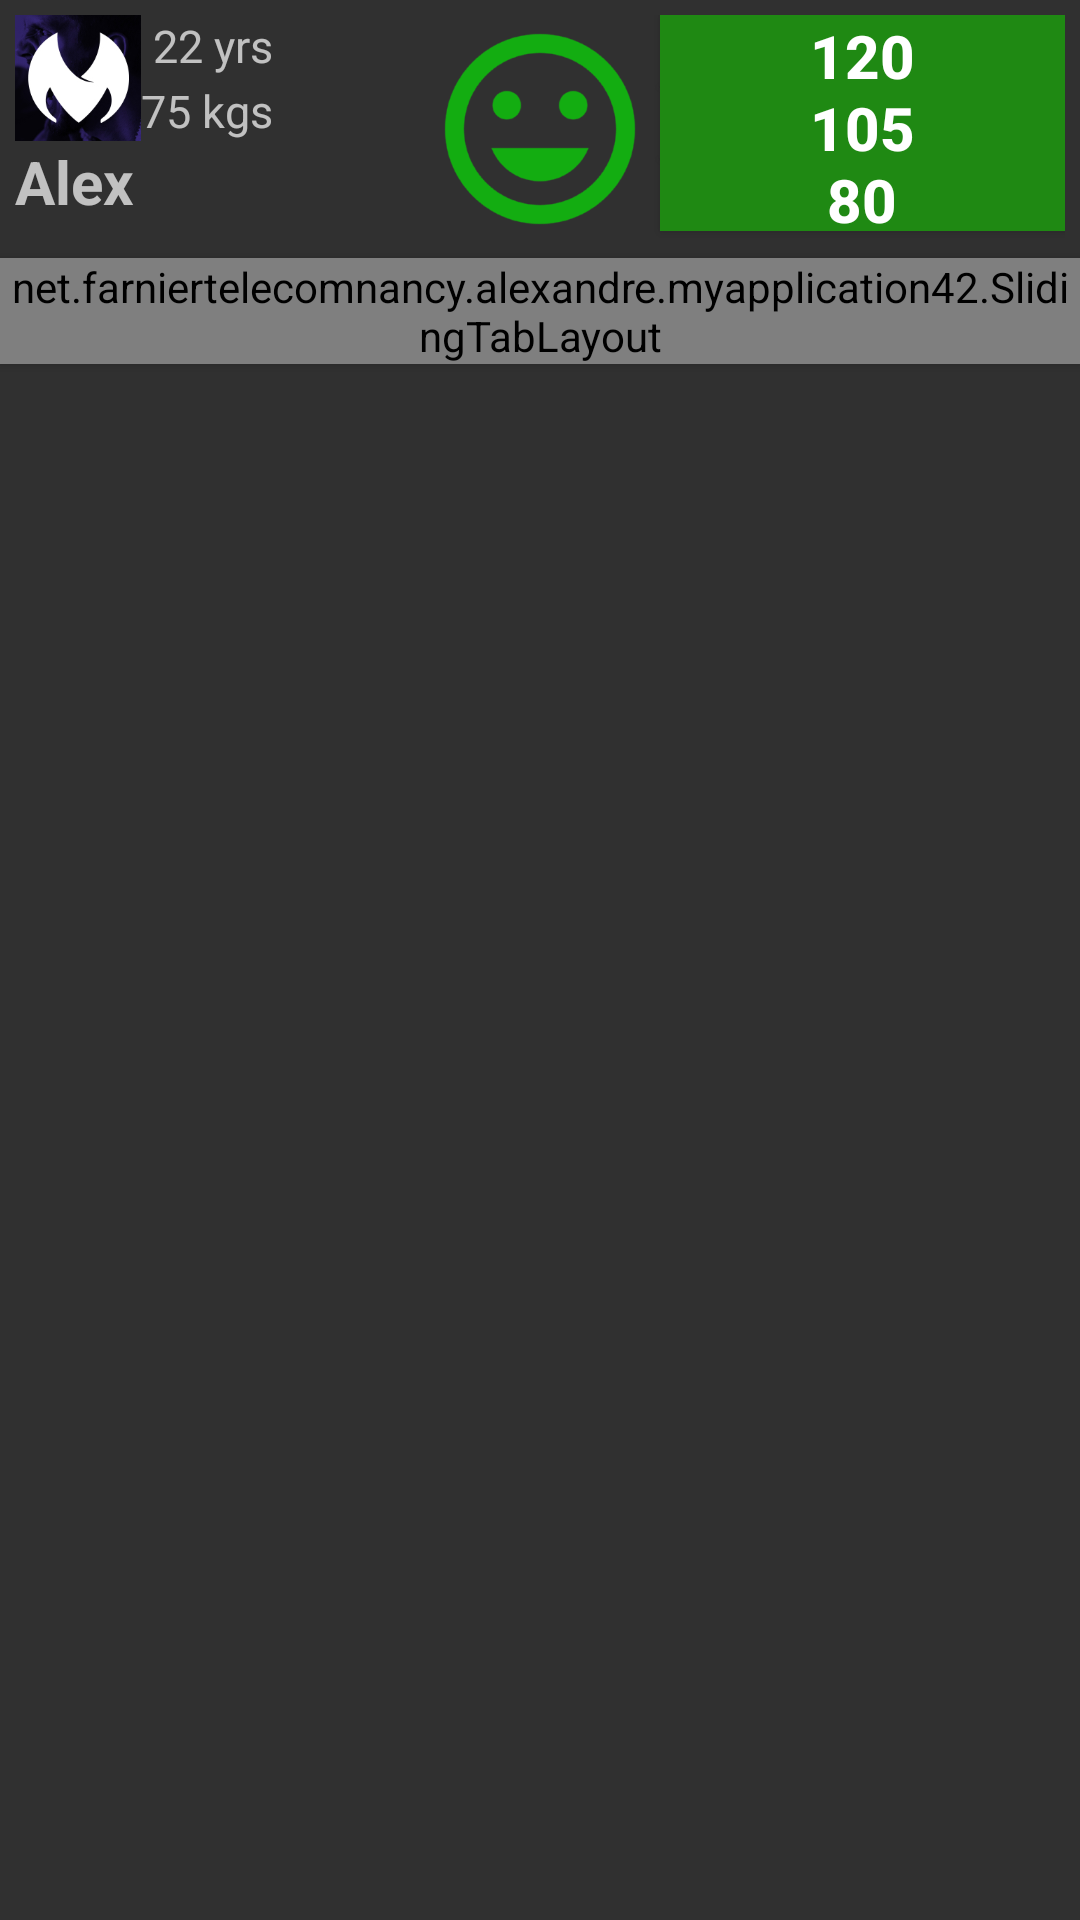

Where to tap for icons on this 1080×1920 app screen, as (x=x, y=y):
smile: (x=540, y=129)
